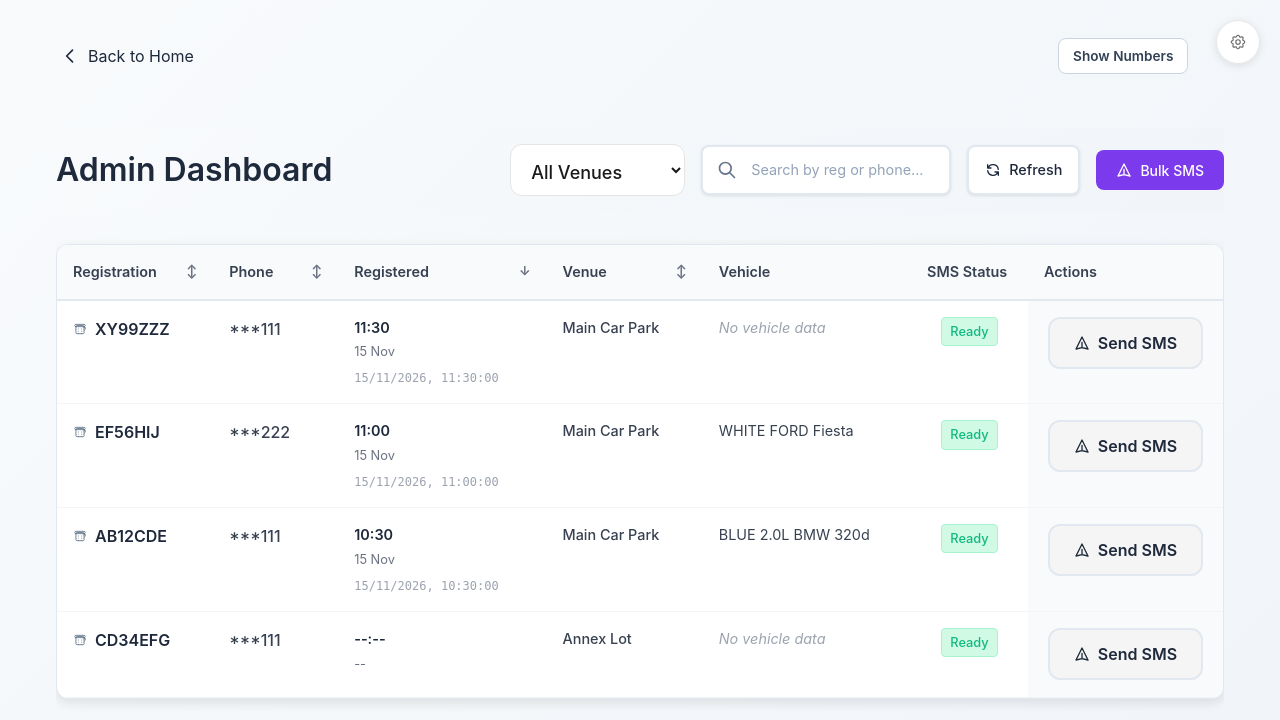
it: AdminLogin & AdminDashboard › Bulk SMS Select All works with shared phones, deduplicates SMS sends, and locks backdrop while sending
The width and height of the screenshot is (1280, 720).
Later steps or results of the test are not shown.
Check: the text "AB12CDE" is shown, box left=95, top=524, right=167, bottom=548
Click the button "Bulk SMS" at {"x": 1160, "y": 170}, box left=1096, top=150, right=1224, bottom=190
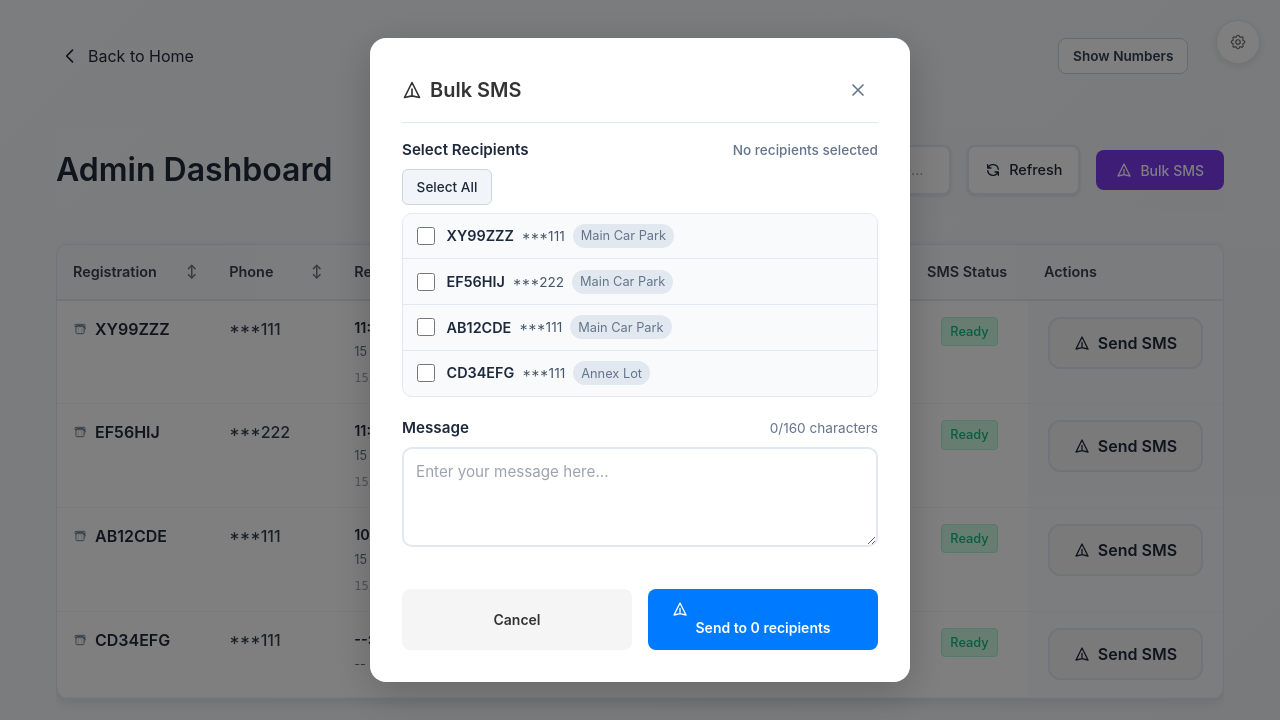
Click the button "Select All" at {"x": 447, "y": 187}, box left=402, top=169, right=492, bottom=205
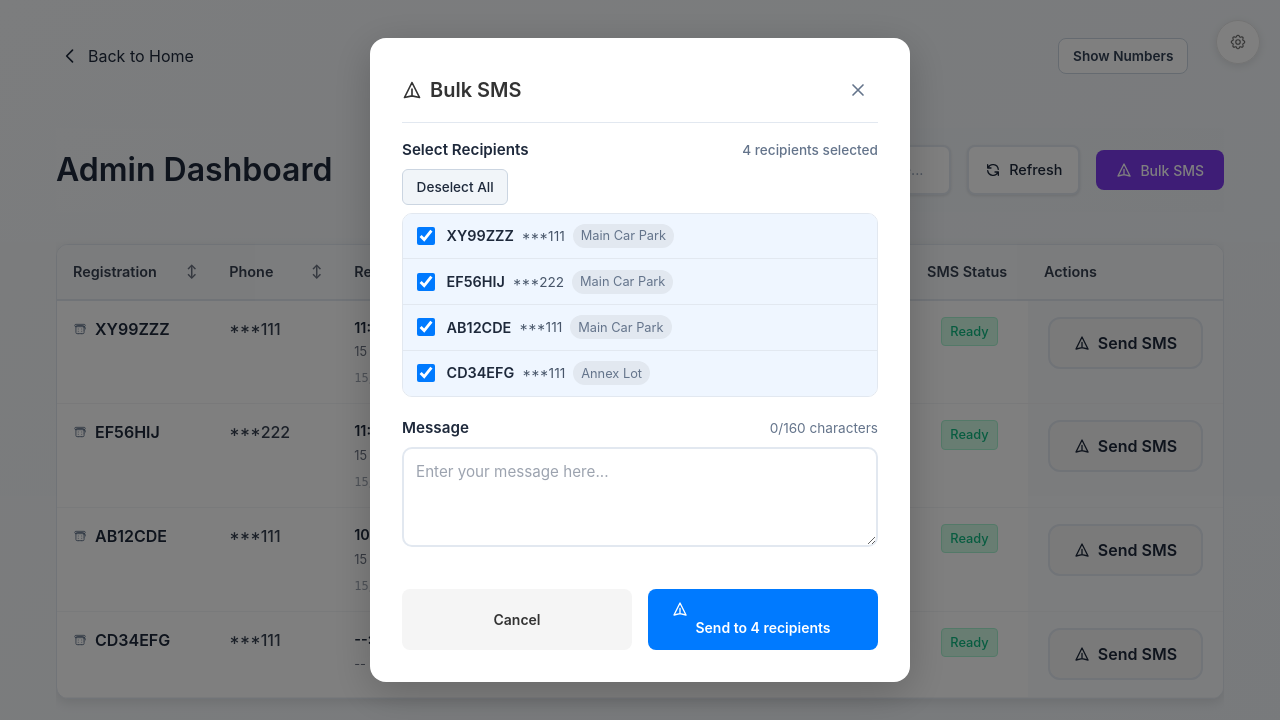
Check: the text "4 recipients selected" is shown, box left=742, top=142, right=878, bottom=158
Check: the button "Deselect All" is shown, box left=402, top=169, right=508, bottom=205
Type "Car park closes at 10pm" into the text box named "Bulk SMS message" at {"x": 640, "y": 497}, box left=402, top=447, right=878, bottom=547
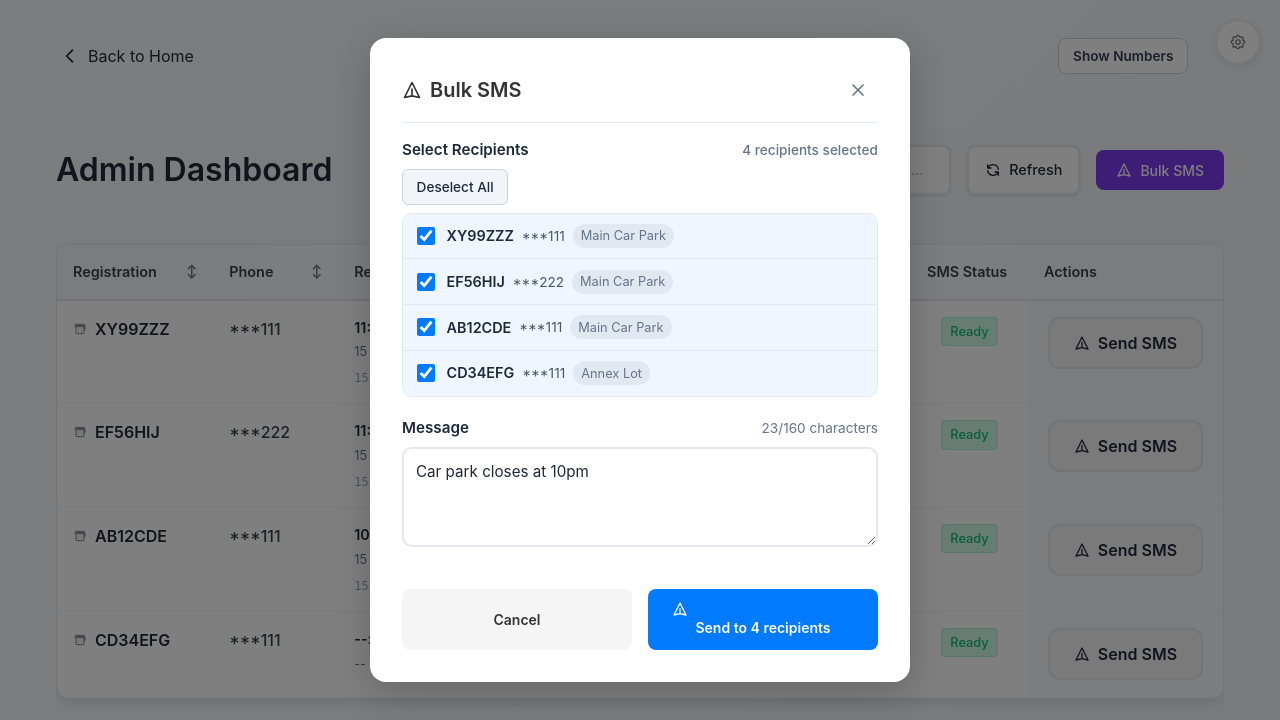
Click the button "Send to 4 recipients" at {"x": 763, "y": 620}, box left=648, top=589, right=878, bottom=650
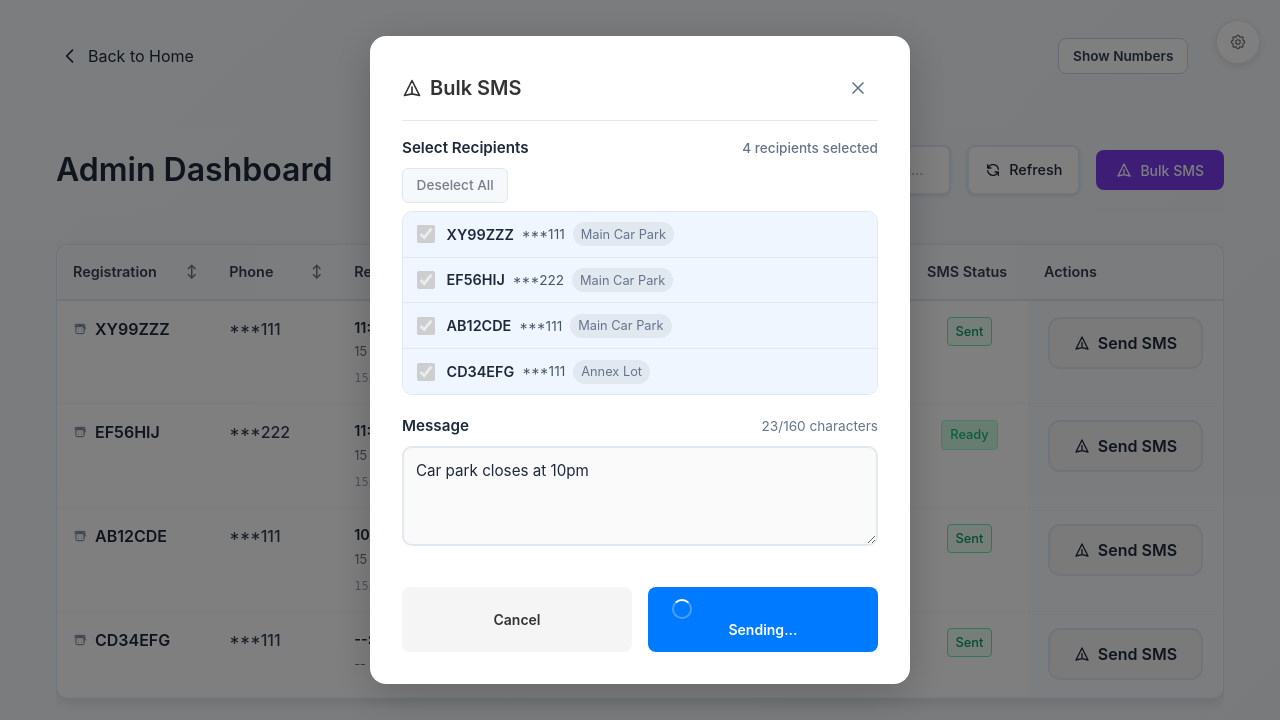
Press Escape
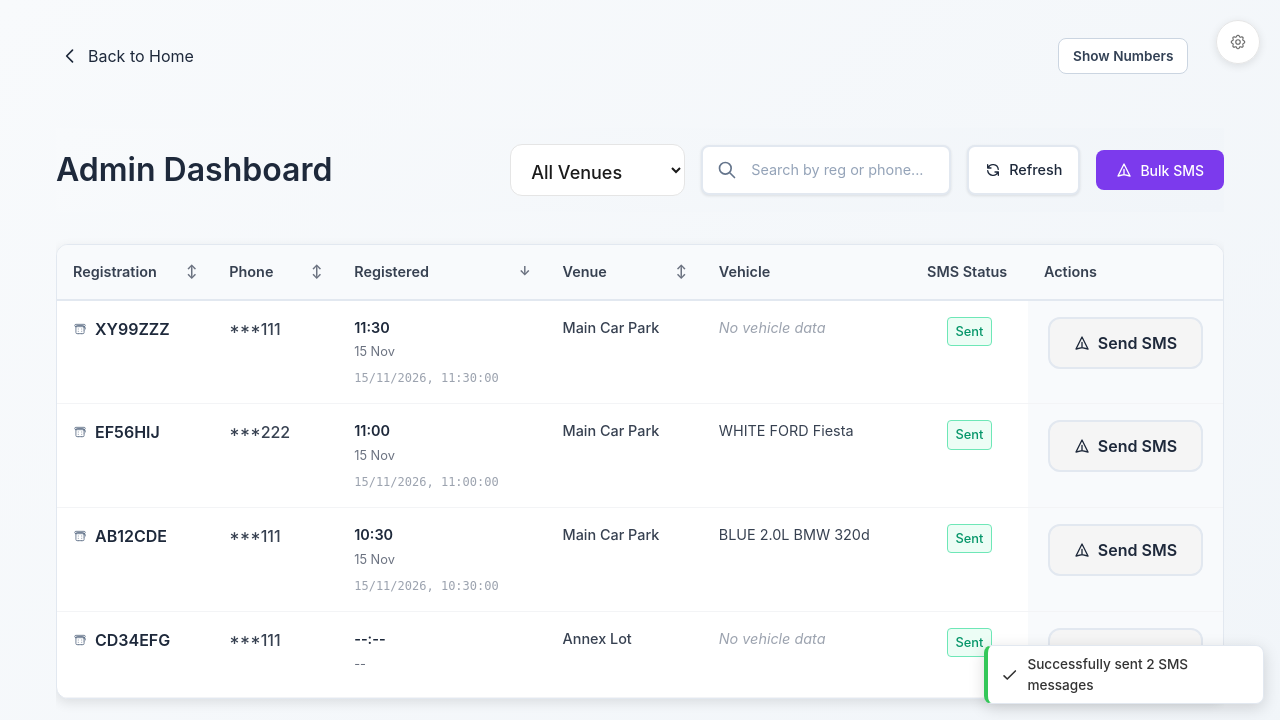
Check: the text "Sent" is shown 4 times, box left=947, top=317, right=992, bottom=346; left=947, top=420, right=992, bottom=450; left=947, top=524, right=992, bottom=553; left=947, top=628, right=992, bottom=657
Check: the text "Successfully sent 2 SMS messages" is shown, box left=1027, top=656, right=1188, bottom=693
